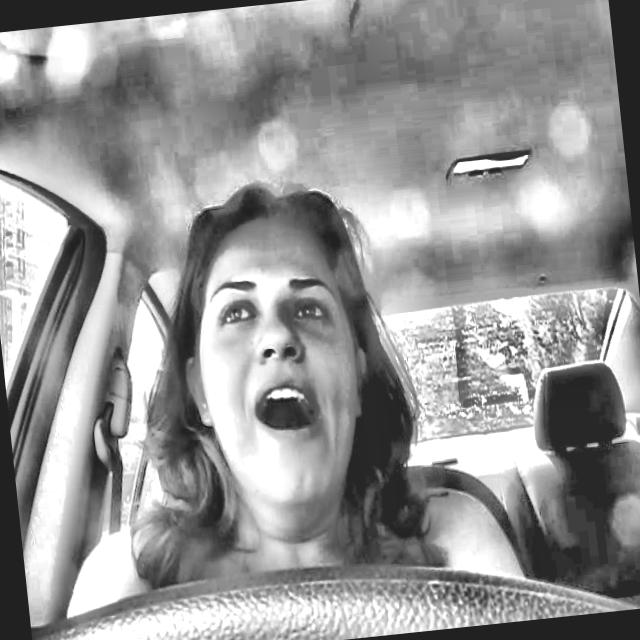open_eyes: (204, 295, 263, 335), (284, 293, 341, 334)
open_mouth: (232, 370, 341, 451)
